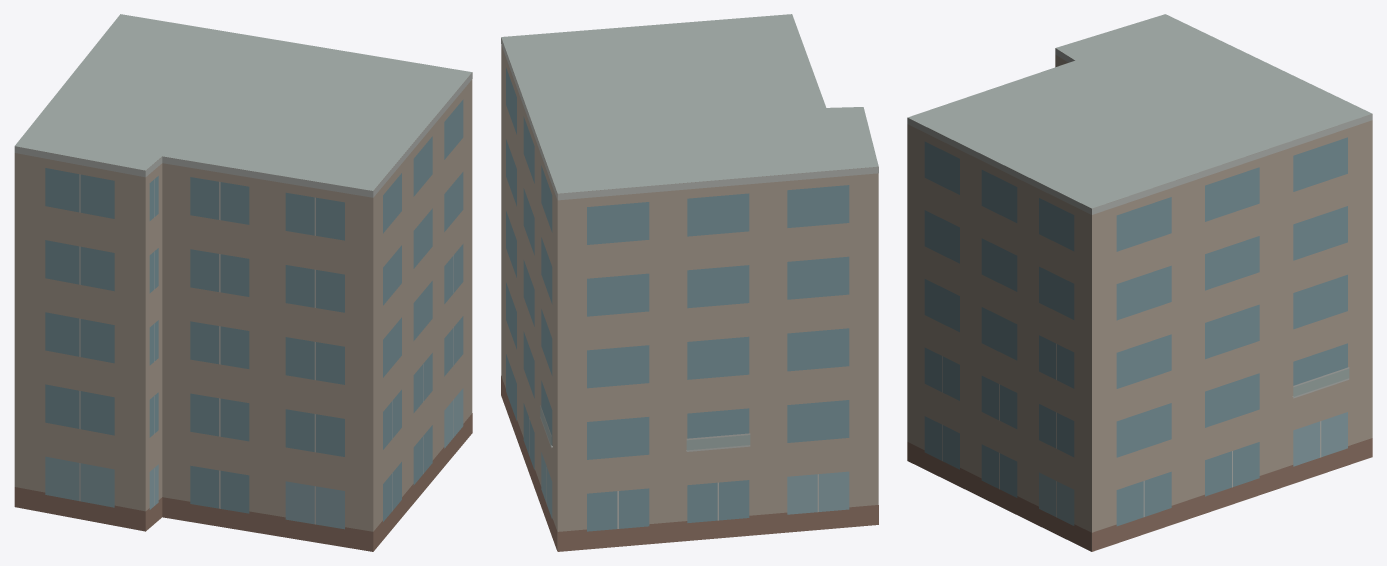
The model's file is survey-upis-32781326.glb.
3 renders of one model, left to right at view 1: azimuth 30°, elevation 25°; view 2: azimuth 150°, elevation 25°; view 3: azimuth 270°, elevation 25°, orthographic. The views are drawn at different scales.
Parts seen in each view (by area): view 1: survey-upis-32781326.tmp; view 2: survey-upis-32781326.tmp; view 3: survey-upis-32781326.tmp.
Part boxes in pixels (box(x1,y1,x2,y2)): survey-upis-32781326.tmp: box(14, 14, 472, 551); survey-upis-32781326.tmp: box(501, 14, 878, 551); survey-upis-32781326.tmp: box(907, 14, 1372, 551).
Size of the model in its own units: 15.81 by 13 by 15.98.
